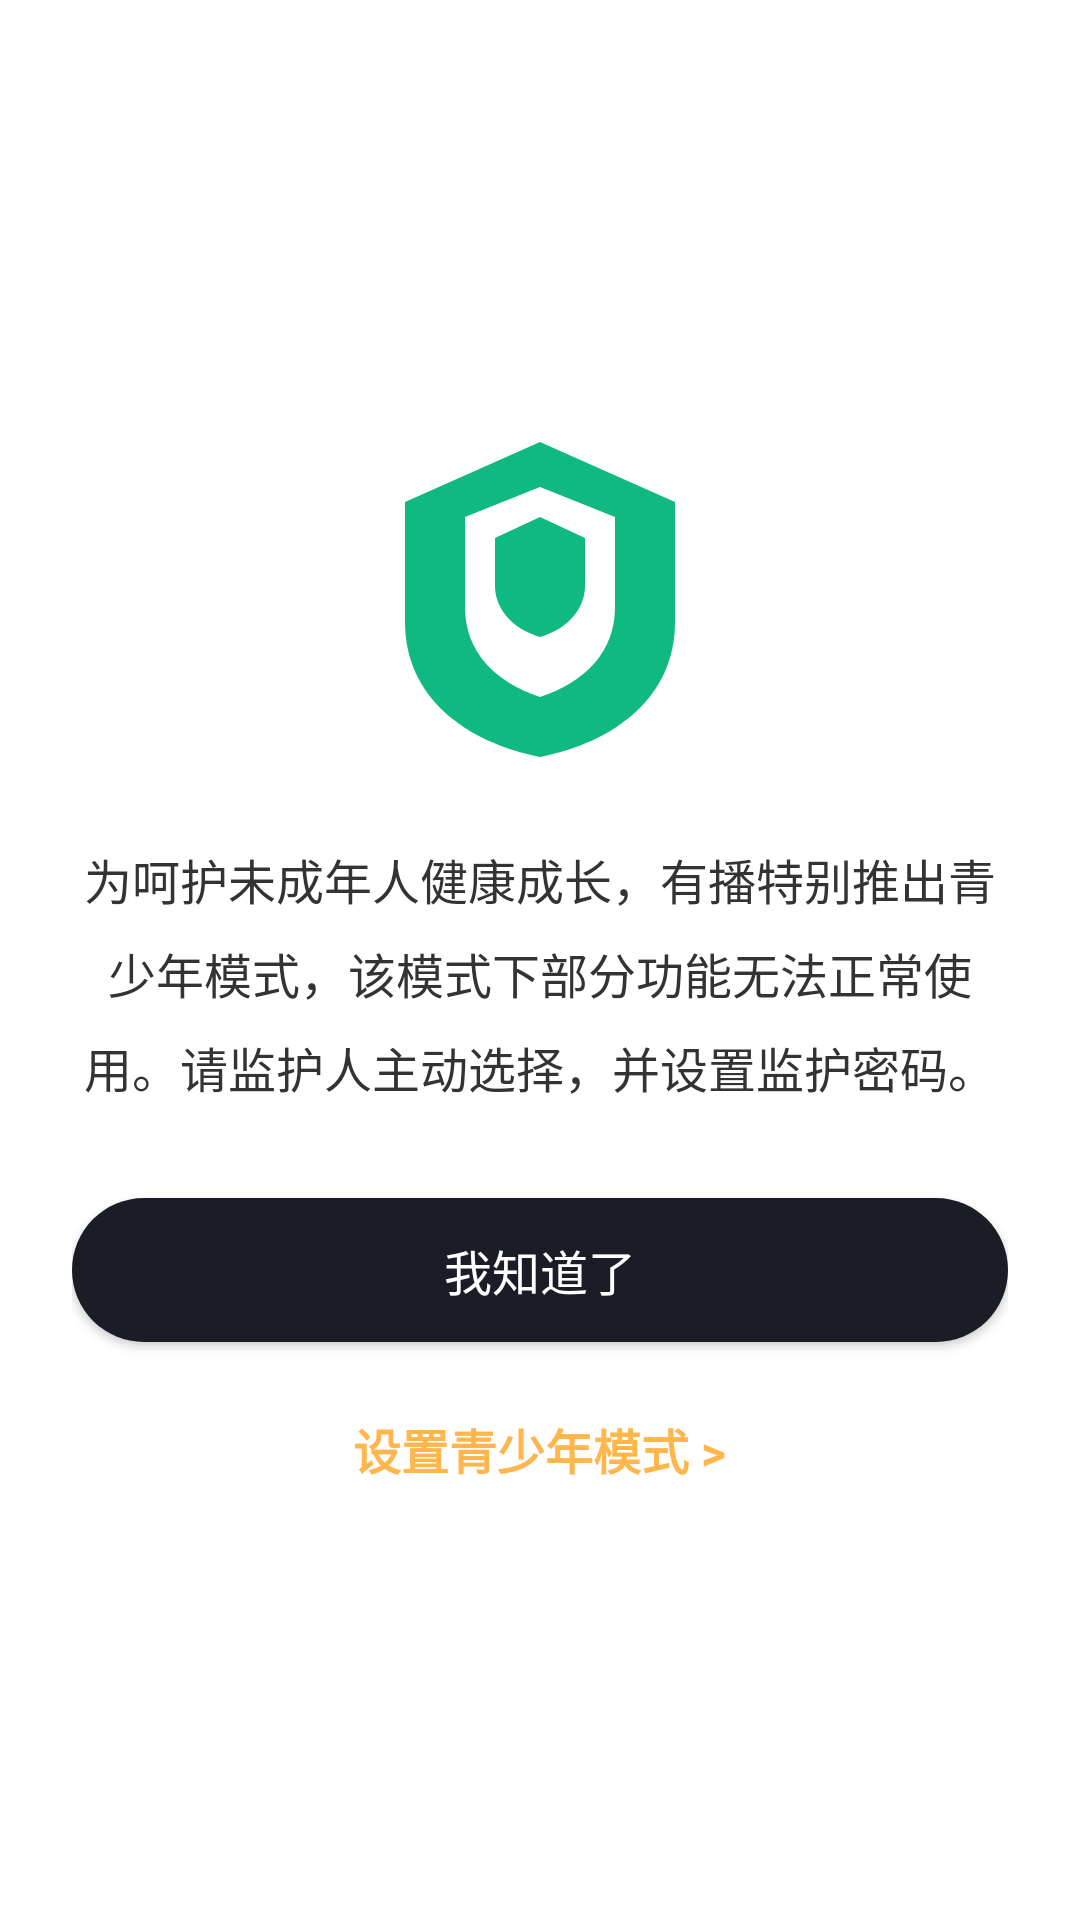

Named icons in this screenshot (1080x1920) and their centers, point (x, y):
青少年模式图标: point (540, 599)
